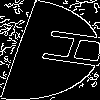H: (24, 25, 100, 70)
